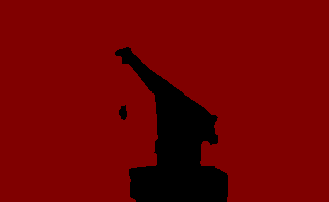Sky: (1, 1, 328, 201)
